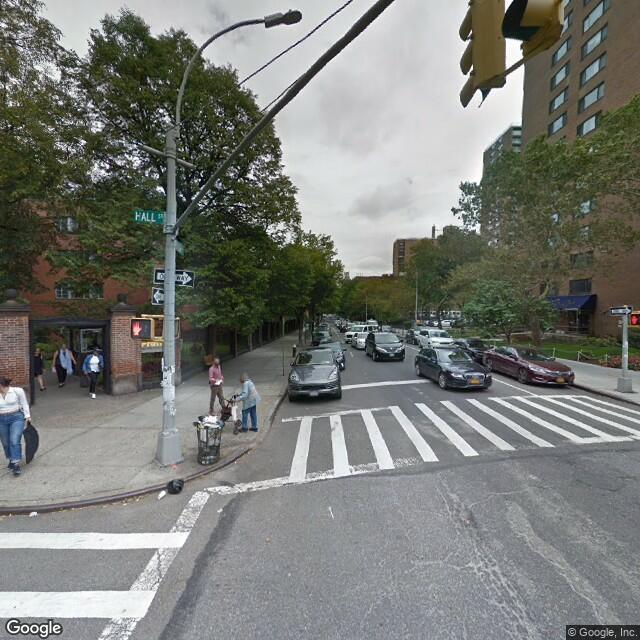litter: (168, 474, 187, 496), (149, 485, 169, 505), (23, 503, 41, 524), (214, 509, 226, 518)
